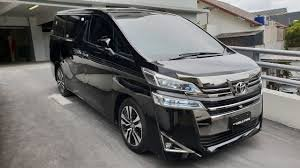mobil: (49, 7, 271, 157)
